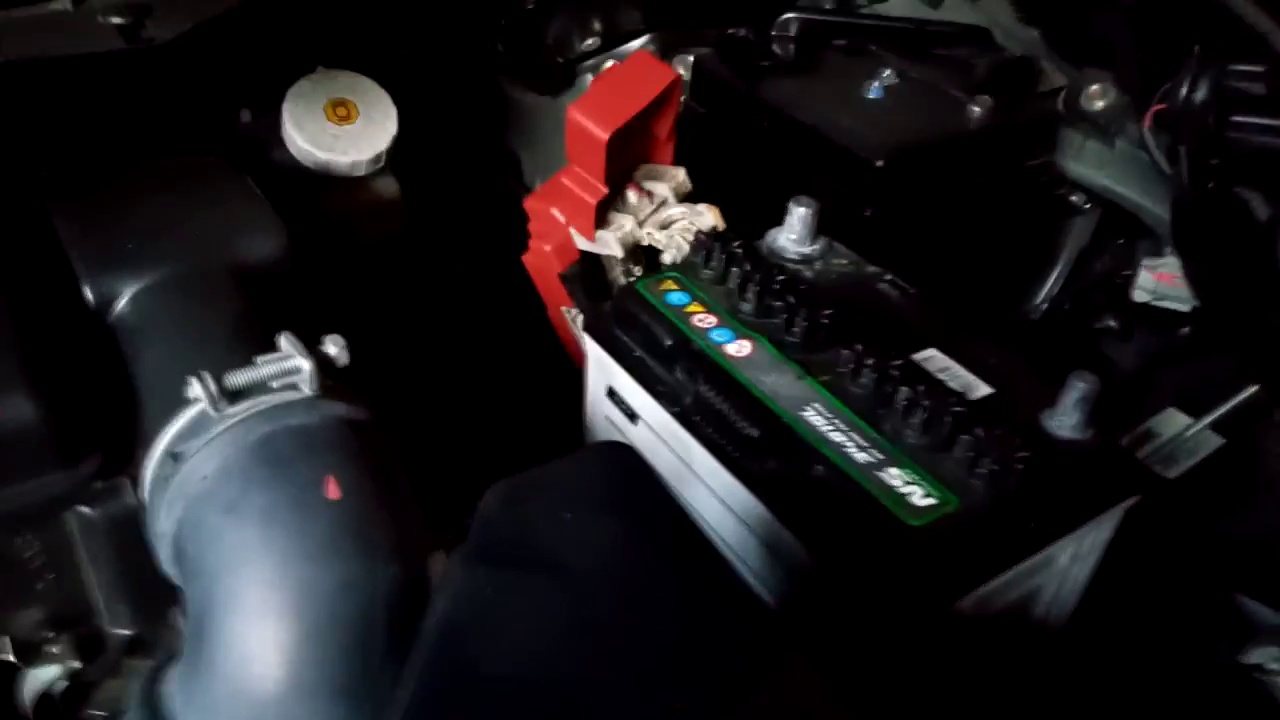battery: (570, 159, 1142, 580)
neg_disconnected: (995, 339, 1151, 461)
pos_disconnected: (514, 89, 844, 295)
